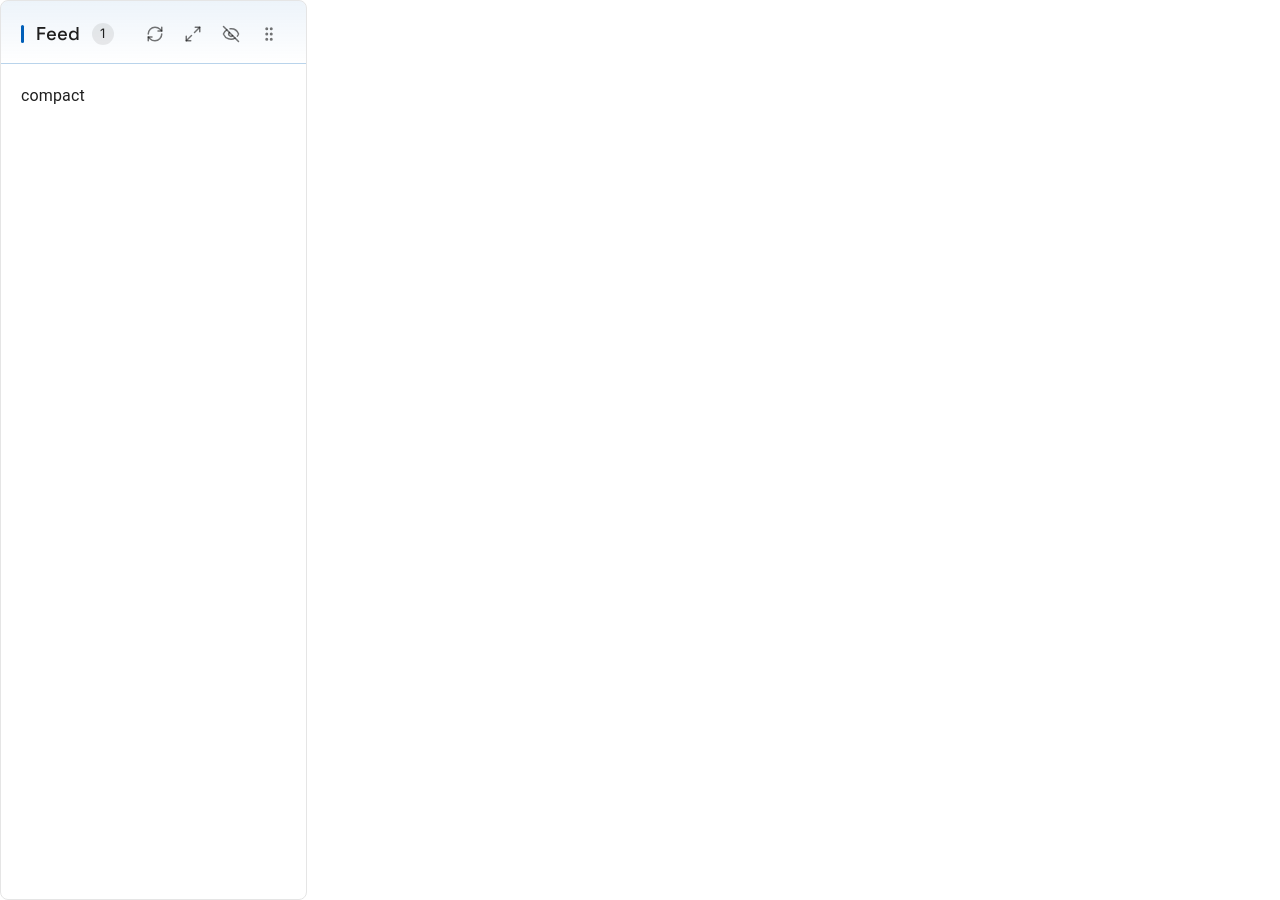
Test: useWidgetExpanded › reports compact in the grid and expanded inside the dialog
Expected: the text "compact" is shown, [21, 86, 85, 105]
Expected: the text "expanded" is not shown
Click the button named "expand feed".
click(192, 34)  # box [176, 17, 210, 51]
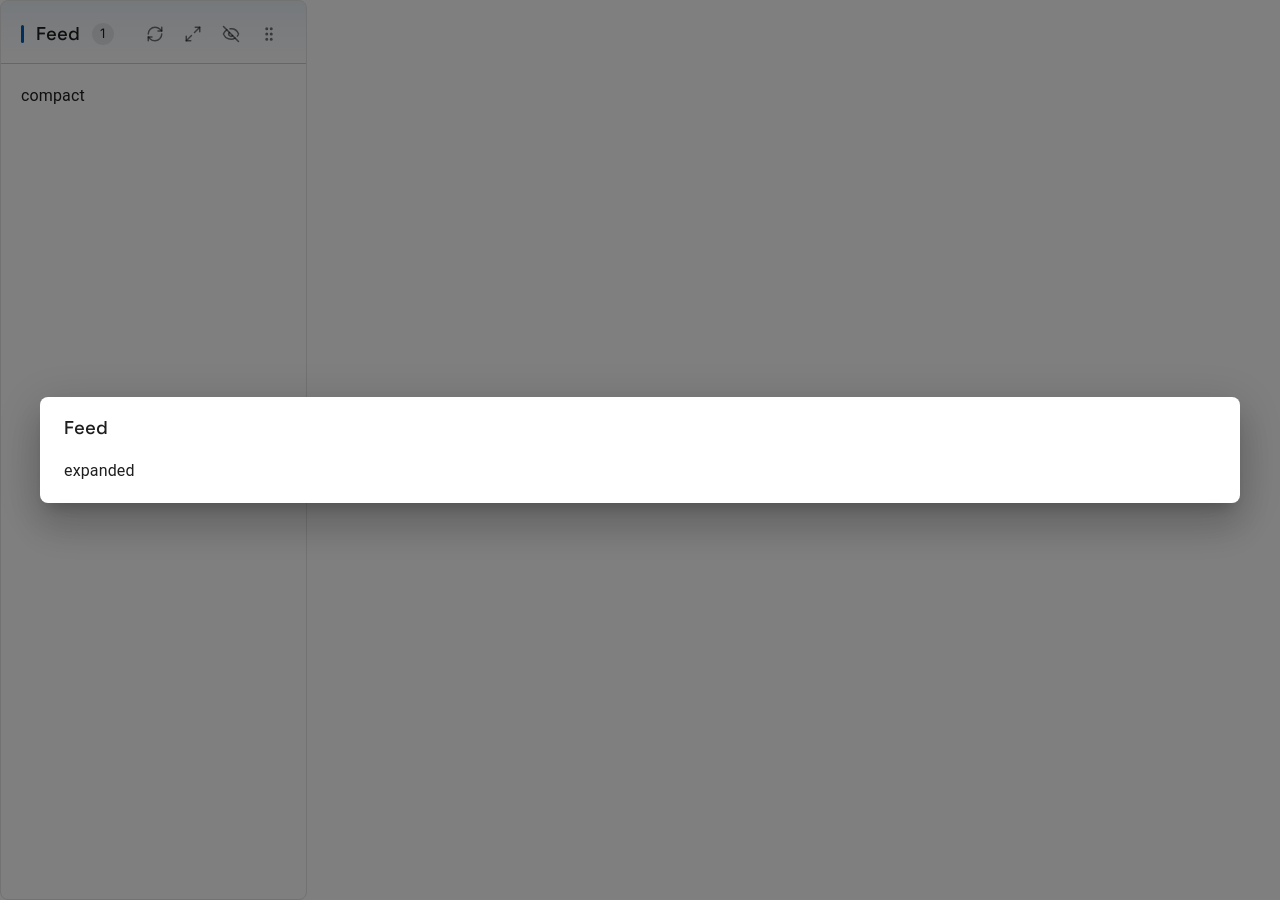
Expected: the text "compact" is shown, [21, 86, 85, 105]
Expected: the text "expanded" is shown, [64, 461, 135, 480]
